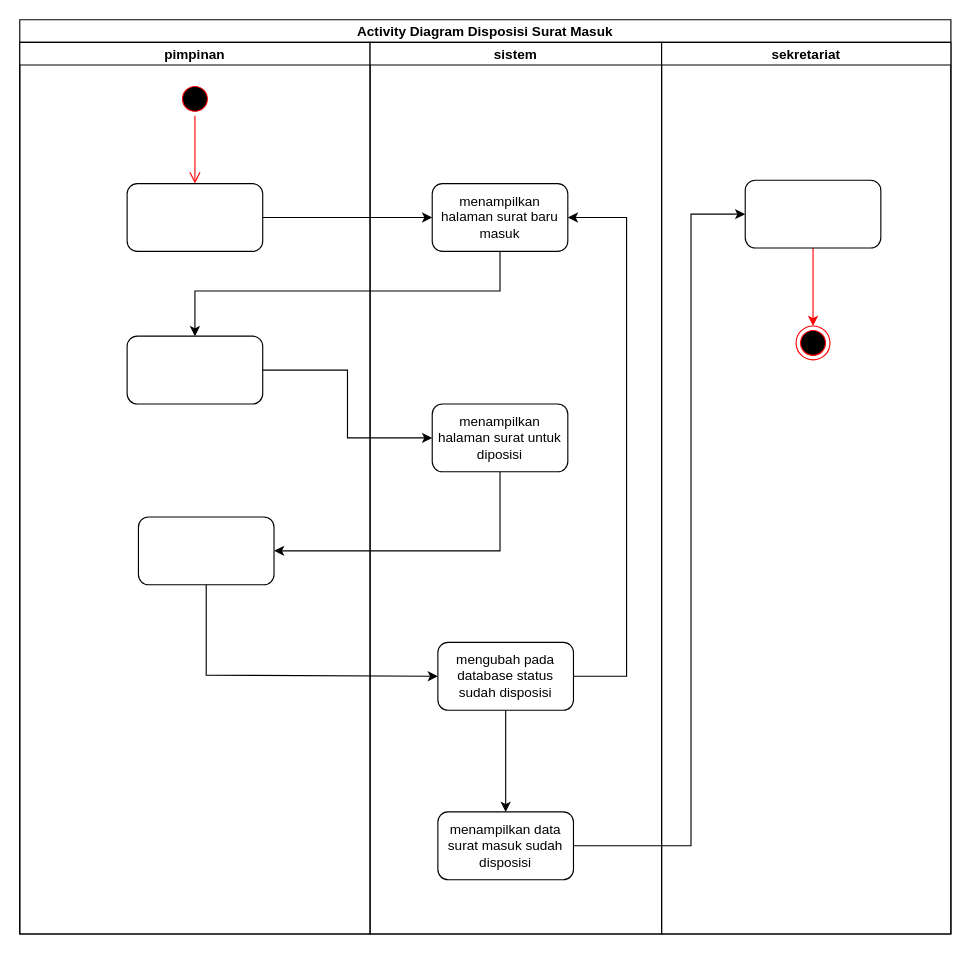
This 971x954 diagram has some shape labels left out. The centre of each missing label's shape, as x and y in pixels:
"cetak lembar disposisi" belongs at (x=812, y=213).
"input untuk ditindak lanjuti dalam disposisi" belongs at (x=205, y=550).
"klik data surat masuk yang dipilih pada table" belongs at (x=194, y=369).
"Login" belongs at (x=194, y=216).
